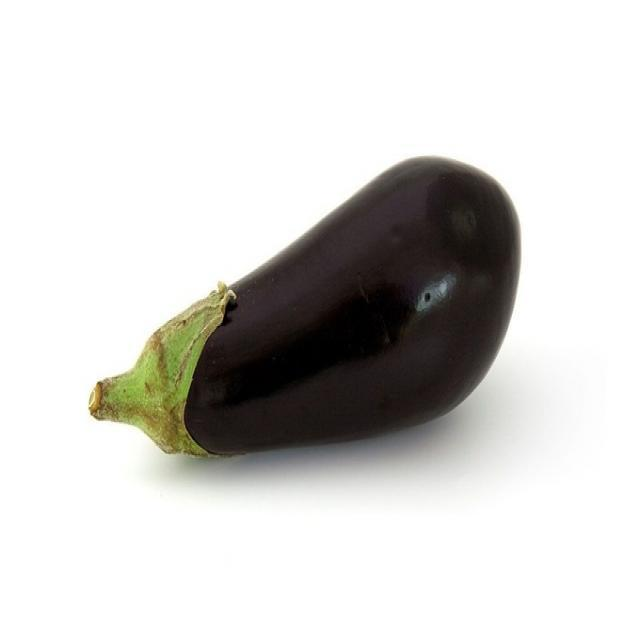eggplant: (70, 129, 552, 518)
